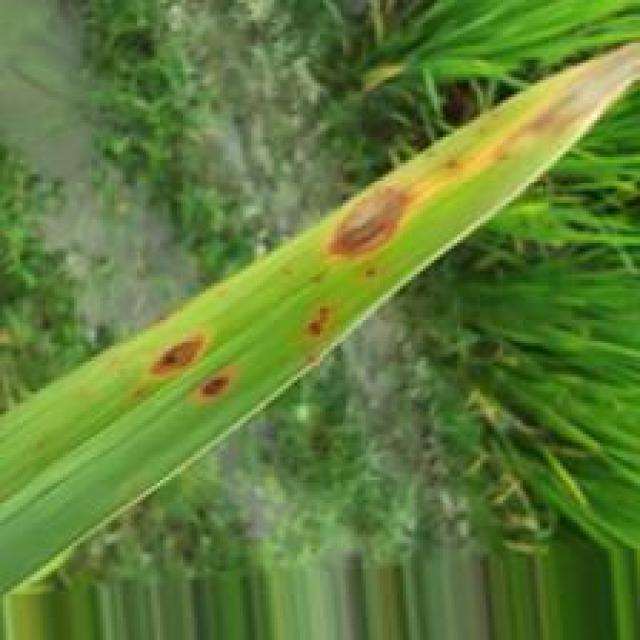Brown_Spot: (319, 181, 426, 267), (139, 324, 218, 385), (190, 356, 248, 404), (304, 301, 337, 345), (439, 155, 468, 179)
